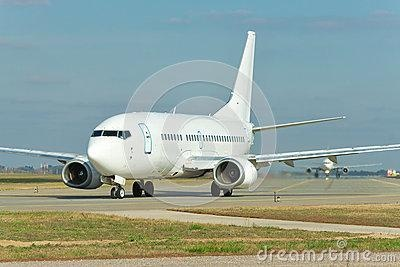airplane: (2, 28, 398, 199)
